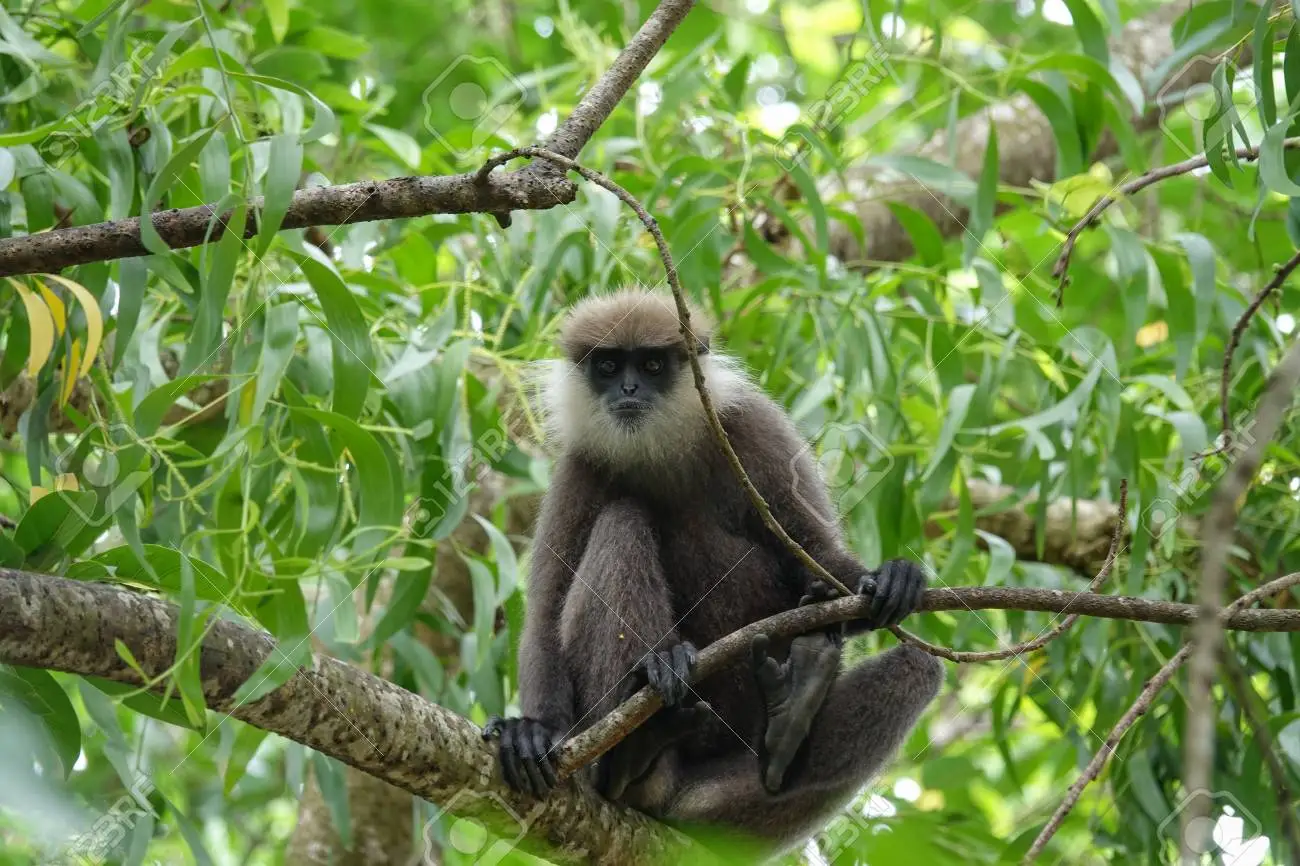Monkey: (474, 260, 967, 858)
